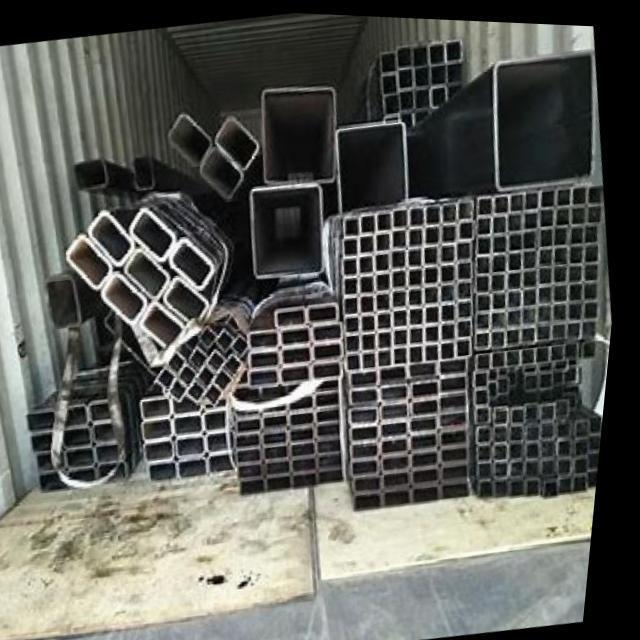pipe: (496, 45, 596, 185), (264, 85, 337, 180), (255, 183, 329, 274), (339, 119, 411, 210), (171, 111, 215, 166), (95, 209, 138, 265), (72, 234, 116, 287), (136, 207, 179, 260), (218, 116, 261, 169), (171, 274, 215, 325), (132, 247, 174, 299), (109, 273, 152, 322), (176, 236, 218, 286), (204, 147, 246, 197), (148, 300, 189, 348), (53, 275, 86, 327), (77, 158, 111, 189), (97, 395, 129, 424), (151, 415, 182, 441), (150, 394, 182, 419), (35, 409, 66, 434), (69, 403, 97, 429), (152, 439, 185, 461), (45, 449, 74, 474), (137, 155, 157, 189), (255, 347, 288, 367), (255, 326, 286, 347), (288, 342, 319, 363), (313, 300, 344, 321), (281, 303, 312, 324), (158, 459, 186, 482), (286, 323, 316, 344), (187, 456, 217, 477), (317, 319, 348, 339), (40, 432, 71, 452), (321, 338, 349, 360), (185, 435, 214, 456), (71, 426, 100, 447), (49, 471, 78, 492), (447, 407, 477, 427), (215, 428, 239, 453), (105, 440, 132, 462), (393, 483, 421, 504), (74, 446, 103, 466), (255, 365, 287, 383), (210, 405, 235, 428), (289, 362, 319, 381), (107, 461, 137, 480), (447, 353, 474, 374), (182, 413, 210, 433), (77, 467, 105, 487), (419, 394, 448, 413), (359, 437, 387, 456), (388, 397, 416, 416), (321, 358, 349, 377), (101, 421, 125, 443), (218, 450, 244, 470), (450, 441, 477, 460), (363, 470, 390, 489), (447, 388, 474, 407), (363, 489, 391, 507), (391, 451, 419, 469), (387, 360, 413, 379), (422, 482, 449, 500), (451, 459, 478, 477), (419, 376, 446, 394), (196, 343, 214, 370), (360, 455, 388, 472), (389, 433, 417, 450), (416, 357, 444, 374), (356, 366, 384, 383), (164, 364, 183, 389), (450, 425, 476, 443), (297, 406, 323, 424), (452, 477, 479, 494), (419, 448, 446, 465), (357, 386, 384, 403), (389, 415, 416, 432), (195, 378, 214, 402), (214, 348, 233, 372), (446, 34, 465, 58), (358, 404, 386, 420), (241, 384, 269, 400), (360, 421, 386, 438), (419, 429, 445, 446), (448, 373, 474, 390), (176, 349, 193, 375), (388, 381, 415, 397), (299, 423, 323, 441), (178, 377, 196, 401), (213, 379, 231, 403), (397, 41, 415, 65), (246, 445, 271, 462), (247, 460, 272, 477), (224, 326, 241, 351), (206, 322, 223, 347), (419, 412, 445, 428), (302, 470, 328, 486), (250, 476, 276, 492), (276, 471, 302, 487), (323, 388, 346, 406), (232, 351, 250, 374), (381, 49, 399, 72), (272, 411, 296, 428), (431, 60, 448, 84), (393, 467, 418, 483), (296, 379, 321, 395), (272, 427, 297, 443), (222, 366, 239, 389), (270, 382, 296, 397), (301, 454, 325, 470), (414, 40, 430, 64), (415, 85, 433, 106), (276, 457, 301, 472), (273, 442, 298, 457), (239, 333, 255, 356), (206, 361, 222, 384), (430, 39, 446, 62), (244, 432, 270, 446), (300, 440, 324, 455), (297, 394, 321, 409), (245, 415, 269, 430), (347, 213, 364, 234), (385, 90, 402, 111), (328, 451, 350, 467), (448, 58, 464, 80), (422, 465, 447, 479), (324, 405, 347, 420), (429, 222, 446, 242), (383, 71, 400, 91), (548, 434, 564, 455), (347, 234, 363, 255), (329, 466, 353, 480), (187, 363, 203, 384), (591, 293, 606, 315), (401, 86, 416, 108), (322, 376, 347, 389), (270, 399, 297, 411), (380, 210, 397, 229), (560, 182, 576, 202), (445, 239, 461, 259), (564, 394, 579, 415), (558, 240, 573, 261), (414, 202, 429, 223), (400, 66, 415, 87), (544, 185, 561, 203), (483, 401, 499, 420), (429, 262, 445, 281), (505, 473, 520, 493), (448, 336, 463, 356), (396, 266, 411, 286), (447, 200, 462, 220), (462, 237, 477, 257), (483, 191, 497, 212), (593, 179, 607, 200), (463, 197, 477, 218), (384, 326, 398, 347), (327, 437, 348, 451), (548, 398, 564, 416), (548, 417, 564, 435), (446, 220, 462, 238), (428, 243, 444, 261), (349, 313, 365, 331), (244, 404, 268, 416), (534, 397, 547, 419), (590, 332, 603, 354), (482, 383, 497, 402), (552, 473, 567, 492), (531, 367, 546, 386), (353, 349, 368, 368), (368, 347, 383, 366), (415, 341, 430, 360), (513, 188, 528, 207), (576, 181, 591, 200), (574, 259, 589, 278), (558, 278, 573, 297), (397, 206, 412, 225), (463, 218, 478, 237), (397, 245, 412, 264), (433, 85, 448, 104), (573, 358, 587, 378), (529, 319, 543, 339), (483, 289, 497, 309), (545, 222, 559, 242), (431, 202, 445, 222), (412, 224, 426, 244), (417, 63, 431, 83), (584, 414, 597, 435), (590, 238, 603, 259), (481, 366, 496, 384), (502, 438, 517, 456), (514, 323, 529, 341), (574, 315, 589, 333), (497, 211, 512, 229), (592, 201, 607, 219), (560, 203, 575, 221), (513, 305, 528, 323), (498, 307, 513, 325), (347, 255, 362, 273), (349, 295, 364, 313), (447, 319, 462, 337), (414, 284, 429, 302), (399, 305, 414, 323), (416, 322, 431, 340), (574, 296, 588, 315), (529, 187, 543, 206), (576, 202, 590, 221), (528, 283, 542, 302), (529, 302, 543, 321), (462, 258, 476, 277), (447, 280, 461, 299), (365, 231, 379, 250), (365, 210, 379, 229), (369, 329, 383, 348), (548, 365, 561, 385), (590, 313, 603, 333), (529, 205, 542, 225), (559, 317, 574, 334), (349, 274, 364, 291), (380, 230, 395, 247), (400, 324, 415, 341), (352, 332, 367, 349), (484, 422, 498, 440), (521, 474, 535, 492), (503, 403, 517, 421), (519, 402, 533, 420), (432, 339, 446, 357), (464, 334, 478, 352), (482, 251, 496, 269), (482, 213, 496, 231), (498, 191, 512, 209), (513, 209, 527, 227), (513, 228, 527, 246), (590, 218, 602, 239), (590, 276, 604, 294), (513, 247, 527, 265), (575, 221, 589, 239), (543, 244, 557, 262), (544, 261, 558, 279), (559, 260, 573, 278), (574, 277, 588, 295), (366, 292, 380, 310), (463, 278, 477, 296), (465, 296, 479, 314), (431, 302, 445, 320), (326, 421, 347, 433), (598, 410, 611, 429), (498, 325, 511, 344), (559, 297, 572, 316), (498, 230, 511, 249), (560, 222, 573, 241), (381, 271, 394, 290), (464, 315, 477, 334), (413, 244, 426, 263), (512, 269, 527, 285), (446, 261, 461, 277), (381, 290, 396, 306), (489, 475, 503, 492), (486, 440, 500, 457), (535, 455, 549, 472), (518, 437, 532, 454), (502, 420, 516, 437), (400, 344, 414, 361), (544, 319, 558, 336), (514, 287, 528, 304), (430, 282, 444, 299), (396, 226, 410, 243), (398, 287, 412, 304), (529, 342, 542, 360), (483, 328, 496, 346), (482, 232, 495, 250), (497, 249, 510, 267), (527, 225, 540, 243), (545, 203, 558, 221), (575, 240, 588, 258), (413, 265, 426, 283), (416, 304, 429, 322), (234, 312, 247, 330), (186, 339, 199, 357), (535, 437, 547, 456), (574, 335, 586, 354), (529, 264, 541, 283), (365, 254, 380, 269), (366, 313, 381, 328), (514, 345, 528, 361), (383, 309, 397, 325), (380, 251, 394, 267), (552, 455, 565, 472), (535, 418, 548, 435), (590, 260, 603, 277), (497, 270, 510, 287), (499, 287, 512, 304), (365, 272, 378, 289), (447, 300, 460, 317), (583, 469, 595, 487), (585, 433, 597, 451), (568, 434, 580, 452), (568, 454, 580, 472), (519, 420, 531, 438), (504, 372, 516, 390), (482, 271, 496, 286), (431, 322, 445, 337), (488, 458, 501, 474), (566, 416, 579, 432), (569, 472, 582, 488), (537, 474, 550, 490), (544, 300, 557, 316), (484, 349, 496, 366), (584, 451, 596, 468), (544, 341, 556, 358), (483, 309, 495, 326), (544, 282, 556, 299), (598, 446, 608, 466), (529, 246, 540, 264), (559, 340, 572, 355), (385, 347, 398, 362), (450, 79, 463, 94), (500, 346, 512, 362), (504, 457, 517, 471), (521, 457, 532, 473), (599, 431, 609, 446), (596, 466, 606, 481), (561, 365, 570, 380), (498, 376, 505, 394), (496, 363, 505, 375), (506, 362, 514, 372)
